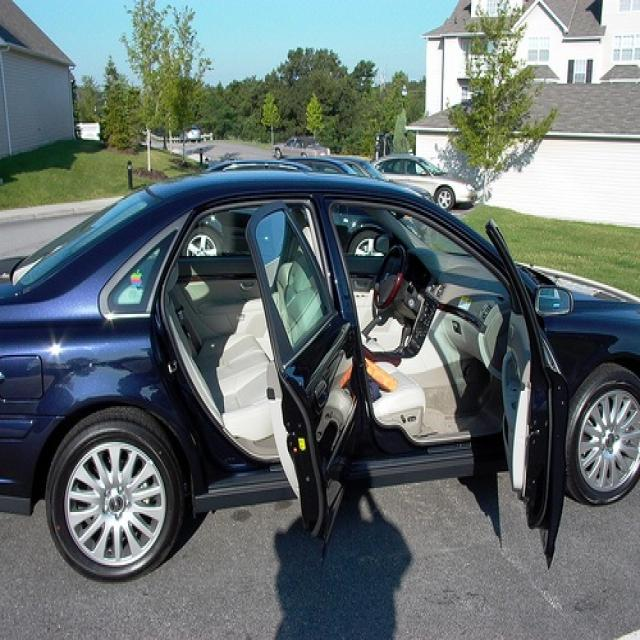car: (1, 174, 639, 585), (375, 150, 479, 212), (272, 132, 332, 166)
